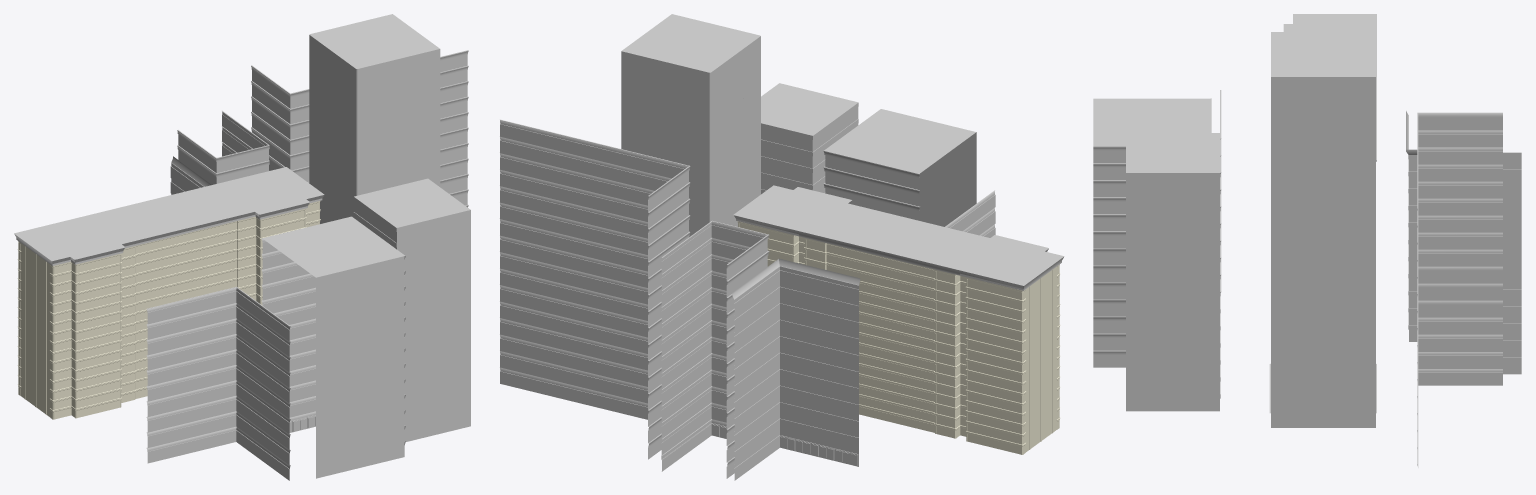
File: modifications.fbx
3 renders of one model, left to right at view 1: azimuth 30°, elevation 25°; view 2: azimuth 150°, elevation 25°; view 3: azimuth 270°, elevation 25°, orthographic. The views are drawn at different scales.
Parts seen in each view (by area): view 1: Wall_Stage_Exterior__8_.002, Low2.001, Low2.002, Low1, High3.006, Top_tower, Low4, Low2, Low1.001, Low4.001, High3.004, Low3.001; view 2: Low4, Wall_Stage_Exterior__8_.002, Low3.001, Low1, Low4.001, Top_tower, Low2.001, Low2, Low1.001, High3.004, High3.006, High3.003 (+3 smaller); view 3: Low1.001, High3.006, Low4, Low2, Low2.001, Low4.001, Low3.001, Top_tower, High2.001.
Boxes of the visible parts, x1=… form: Wall_Stage_Exterior__8_.002: x1=17, y1=201, x2=320, y2=419; Low2.001: x1=263, y1=217, x2=404, y2=478; Low2.002: x1=146, y1=287, x2=290, y2=480; Low1: x1=309, y1=35, x2=440, y2=223; High3.006: x1=355, y1=178, x2=470, y2=441; Top_tower: x1=14, y1=167, x2=324, y2=265; Low4: x1=251, y1=50, x2=468, y2=207; Low2: x1=261, y1=216, x2=405, y2=429; Low1.001: x1=309, y1=14, x2=439, y2=68; Low4.001: x1=177, y1=110, x2=269, y2=184; High3.004: x1=353, y1=201, x2=396, y2=249; Low3.001: x1=170, y1=162, x2=204, y2=194; Low4: x1=499, y1=119, x2=690, y2=459; Wall_Stage_Exterior__8_.002: x1=737, y1=221, x2=1060, y2=454; Low3.001: x1=734, y1=266, x2=858, y2=463; Low1: x1=621, y1=36, x2=760, y2=237; Low4.001: x1=661, y1=220, x2=769, y2=462; Top_tower: x1=733, y1=185, x2=1064, y2=290; Low2.001: x1=825, y1=109, x2=976, y2=226; Low2: x1=823, y1=109, x2=919, y2=220; Low1.001: x1=621, y1=14, x2=760, y2=72; High3.004: x1=761, y1=107, x2=858, y2=194; High3.006: x1=761, y1=83, x2=857, y2=135; High3.003: x1=734, y1=431, x2=858, y2=480; Low1.001: x1=1271, y1=32, x2=1375, y2=427; High3.006: x1=1126, y1=133, x2=1219, y2=411; Low4: x1=1417, y1=112, x2=1502, y2=467; Low2: x1=1093, y1=98, x2=1211, y2=350; Low2.001: x1=1093, y1=98, x2=1210, y2=146; Low4.001: x1=1503, y1=152, x2=1521, y2=356; Low3.001: x1=1408, y1=115, x2=1417, y2=324; Top_tower: x1=1283, y1=14, x2=1376, y2=161; High2.001: x1=1093, y1=350, x2=1125, y2=367.
Bounding box in the file's own units: 25625 × 16600 × 18250.
